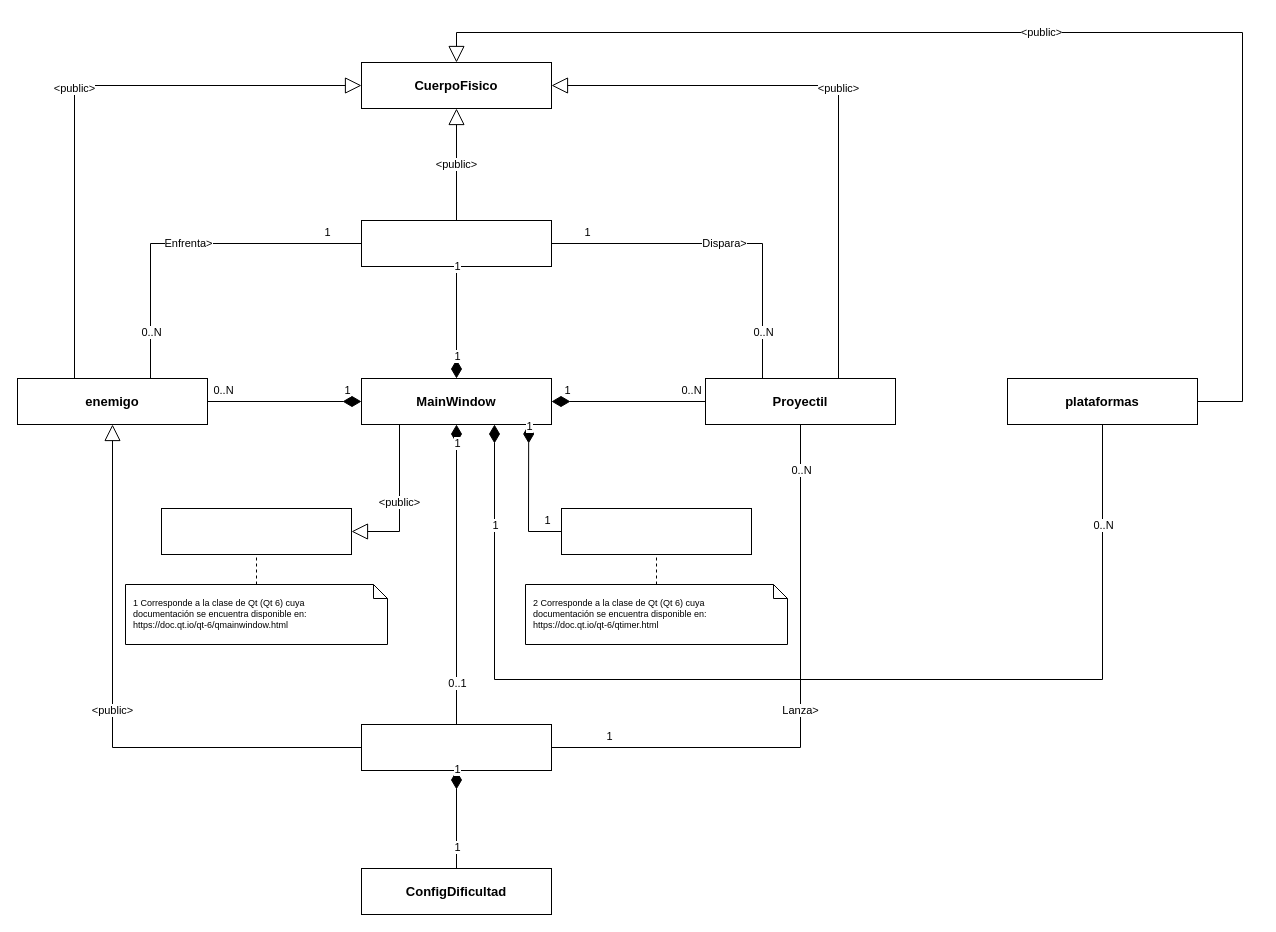
The diagram is 1276 pixels wide and 932 high, and some of its shapes have lost their labels. The centre of each missing label's shape, as x and y in pixels:
JefeGaitan: the point at 456,747
jugador: the point at 456,243
QMainWindow 1: the point at 256,531
QTimer 2: the point at 656,531
